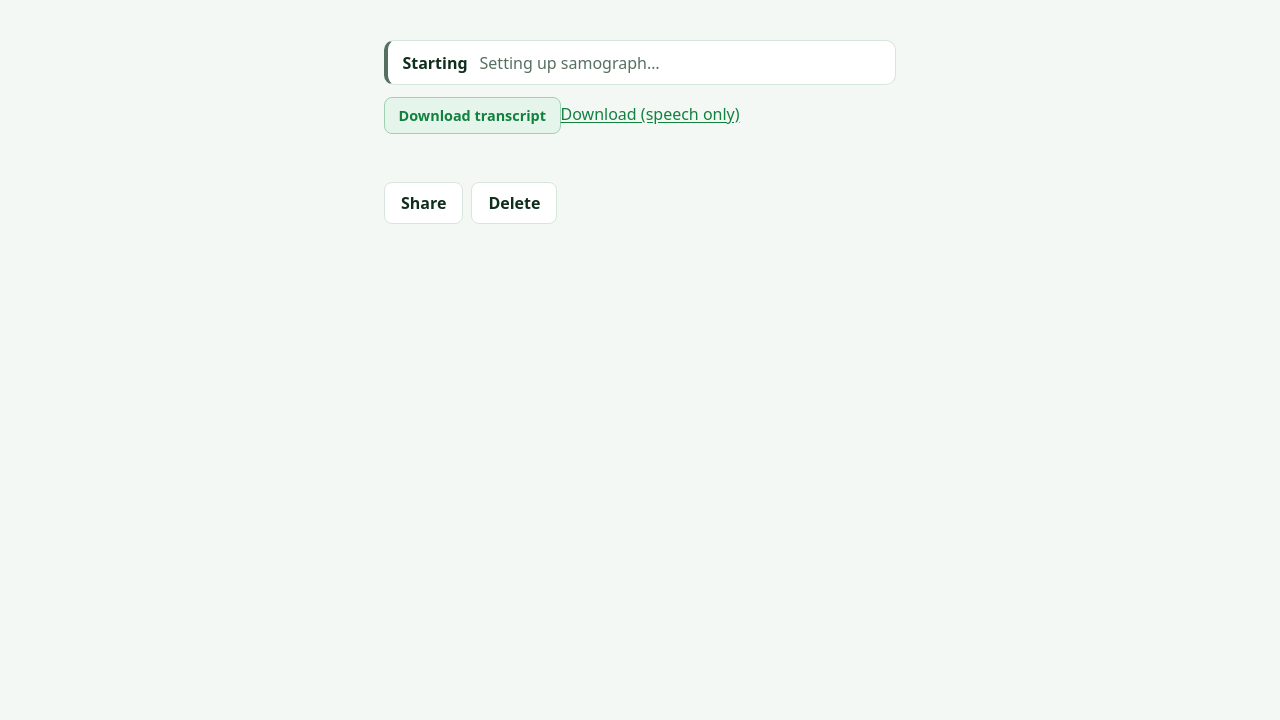
Test: OwnerCallView — owner per-call page (SPEC §4.1, Stories 1/2/4) › Delete requires confirmation: the first click does NOT hit the endpoint
Click the button "Delete" at [514, 203], box [471,182,557,224]
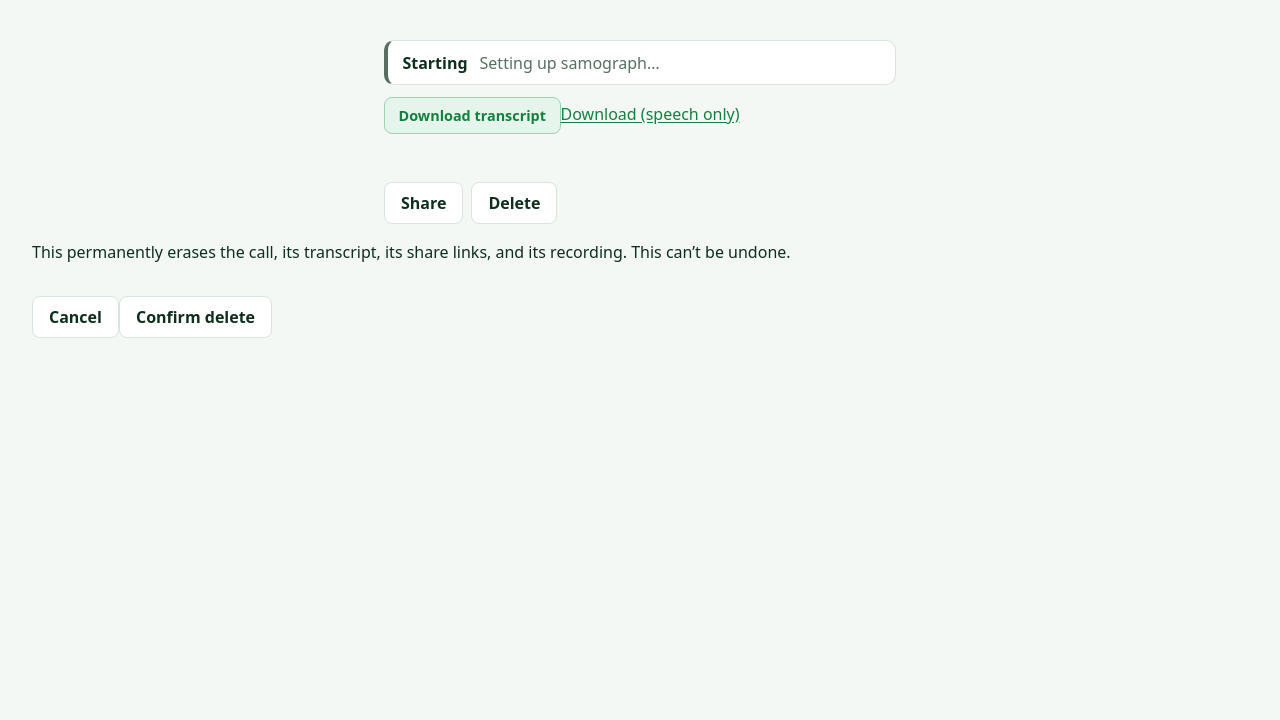
Now the text "can.t be undone" is shown, box [32,241,791,263]
